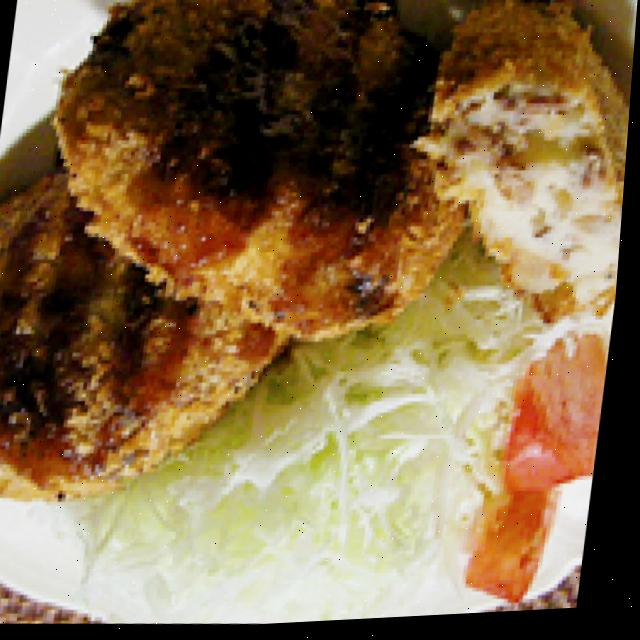炸货点心: (0, 0, 640, 347)
